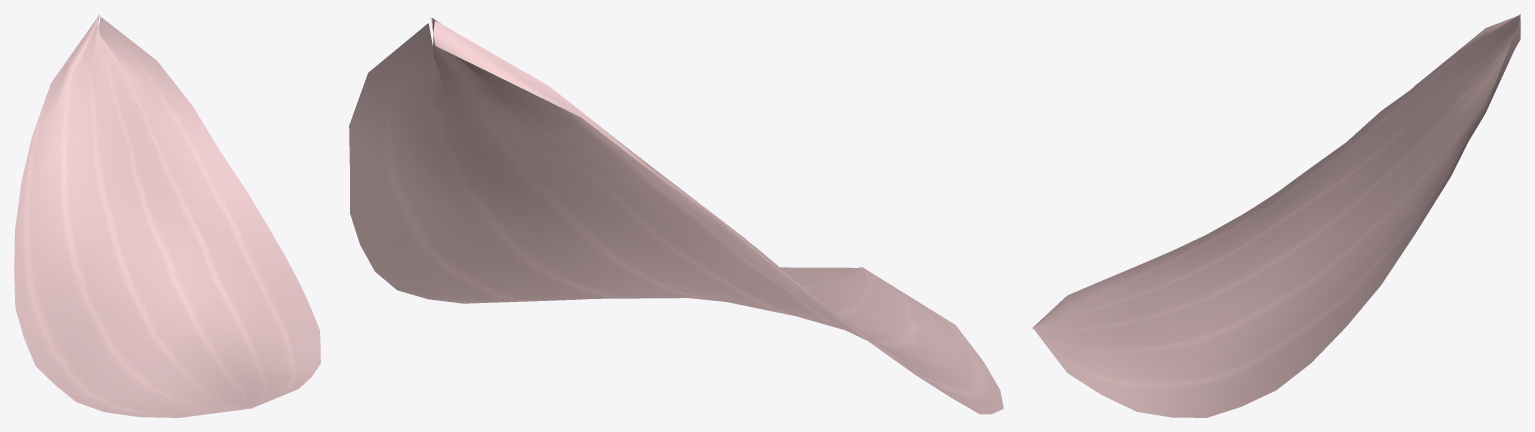
The model's file is petal_09_large.glb.
3 renders of one model, left to right at view 1: azimuth 30°, elevation 25°; view 2: azimuth 150°, elevation 25°; view 3: azimuth 270°, elevation 25°, orthographic. The views are drawn at different scales.
Parts seen in each view (by area): view 1: petal_09_large; view 2: petal_09_large; view 3: petal_09_large.
Boxes of the visible parts, x1,y1,x2,y2 form: petal_09_large: [14, 14, 320, 417]; petal_09_large: [349, 17, 1003, 414]; petal_09_large: [1032, 14, 1520, 417].
Size of the model in its own units: 0.1026 by 0.0925 by 0.1177.
Materials: 1 (1 with a texture image).
